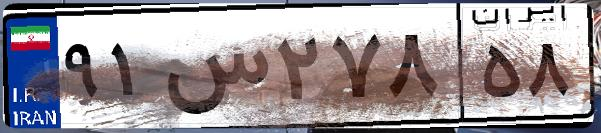1: (110, 28, 158, 98)
2: (270, 28, 330, 110)
5: (475, 38, 525, 113)
7: (330, 28, 385, 110)
8: (385, 28, 445, 110), (525, 38, 570, 115)
9: (57, 26, 110, 100)
س: (158, 20, 270, 120)
